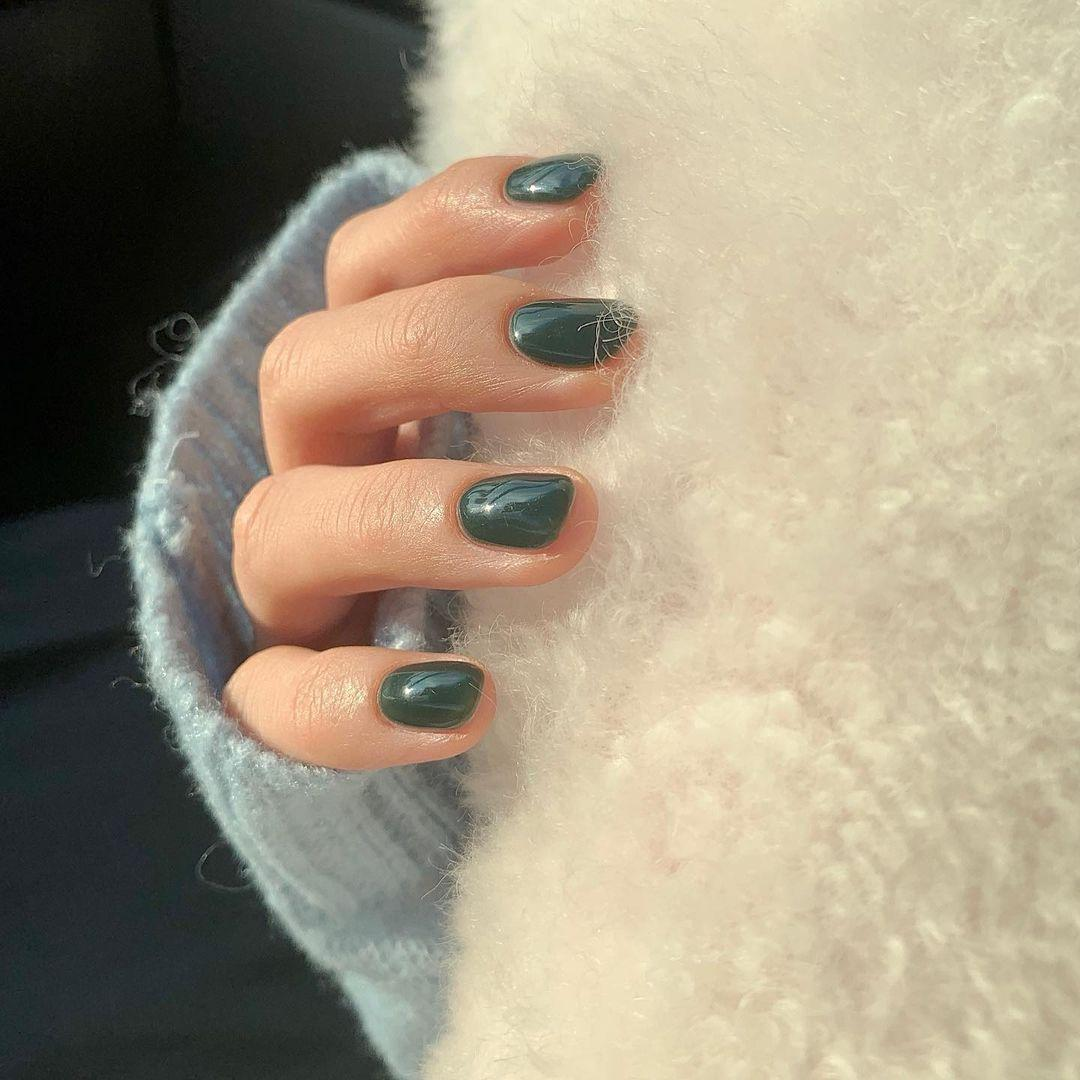nail: (220, 641, 497, 772), (455, 470, 576, 551), (505, 295, 638, 368), (376, 659, 484, 730), (502, 152, 601, 204)
